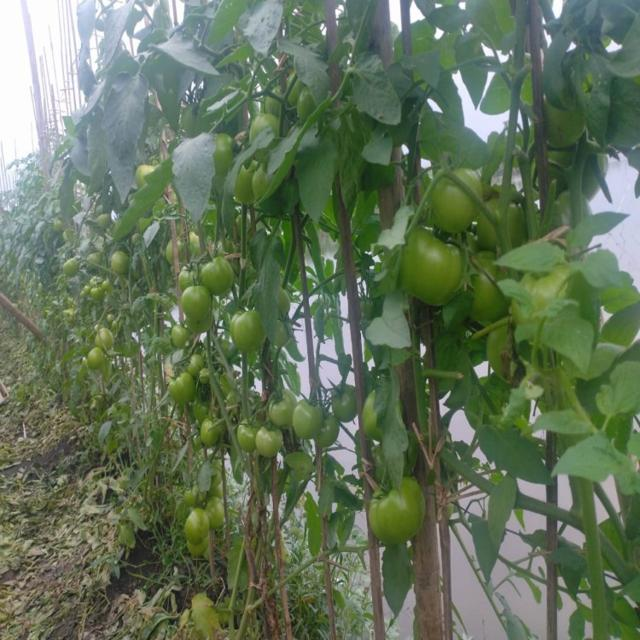tomato: (360, 484, 428, 556), (424, 162, 485, 235), (398, 236, 455, 303), (512, 259, 572, 322), (466, 253, 502, 322), (479, 194, 522, 246), (232, 312, 272, 356), (200, 252, 239, 296), (293, 397, 328, 445), (325, 380, 358, 426), (357, 390, 383, 443), (159, 374, 198, 408), (236, 413, 266, 454), (233, 159, 265, 197), (183, 292, 216, 326), (256, 423, 284, 459), (266, 397, 295, 429), (247, 110, 280, 138), (185, 506, 210, 541), (109, 247, 132, 278), (320, 419, 344, 447), (180, 357, 207, 381), (84, 347, 108, 370), (64, 256, 89, 278), (173, 326, 202, 343), (199, 419, 216, 447), (97, 331, 122, 350), (176, 273, 200, 292), (86, 254, 107, 275), (206, 501, 222, 528), (97, 212, 120, 230), (196, 365, 214, 385), (86, 279, 104, 299), (137, 161, 156, 179)
